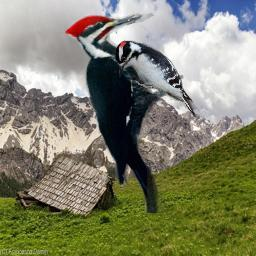Woodpecker: (65, 10, 184, 213), (114, 39, 199, 120)
